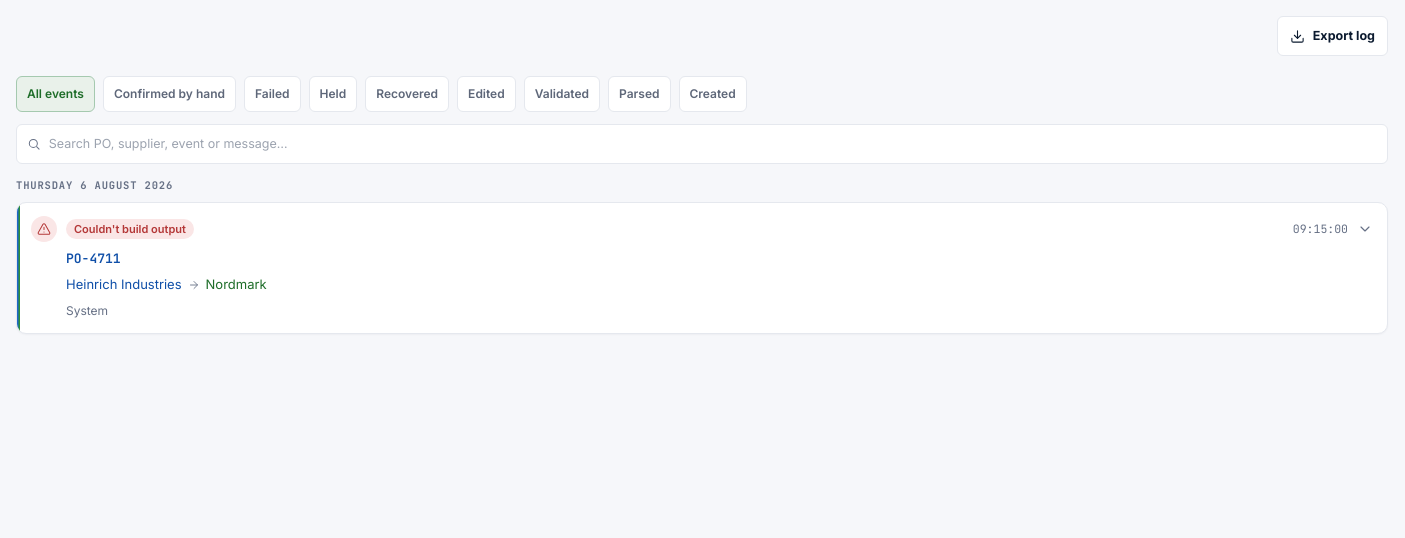
Scenario: CrossingsLog — a long reason on a phone › renders the reason in the mobile card layout too
Step 1. Click the button "PO-4711" → x=702, y=268, box [17, 203, 1387, 333]
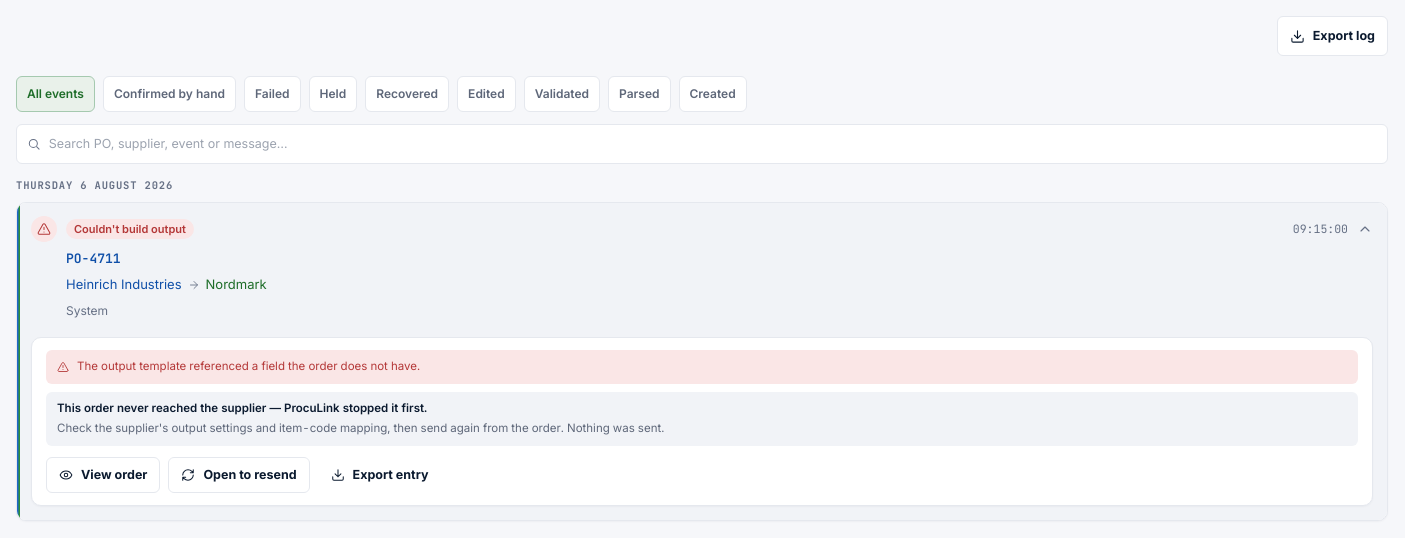
Expected: the element with test id "audit-reason" reads "The output template referenced a field the order does not have.", [77, 359, 420, 373]
